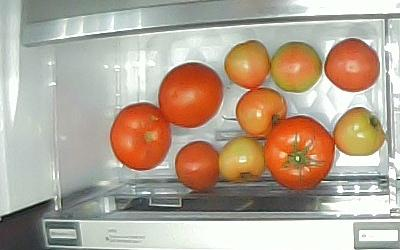tomato: (264, 115, 335, 189), (158, 63, 224, 128), (111, 103, 173, 170), (325, 39, 380, 92), (269, 41, 323, 93), (236, 87, 288, 137), (334, 108, 385, 156), (175, 141, 220, 192), (224, 40, 269, 88), (219, 136, 265, 180)
